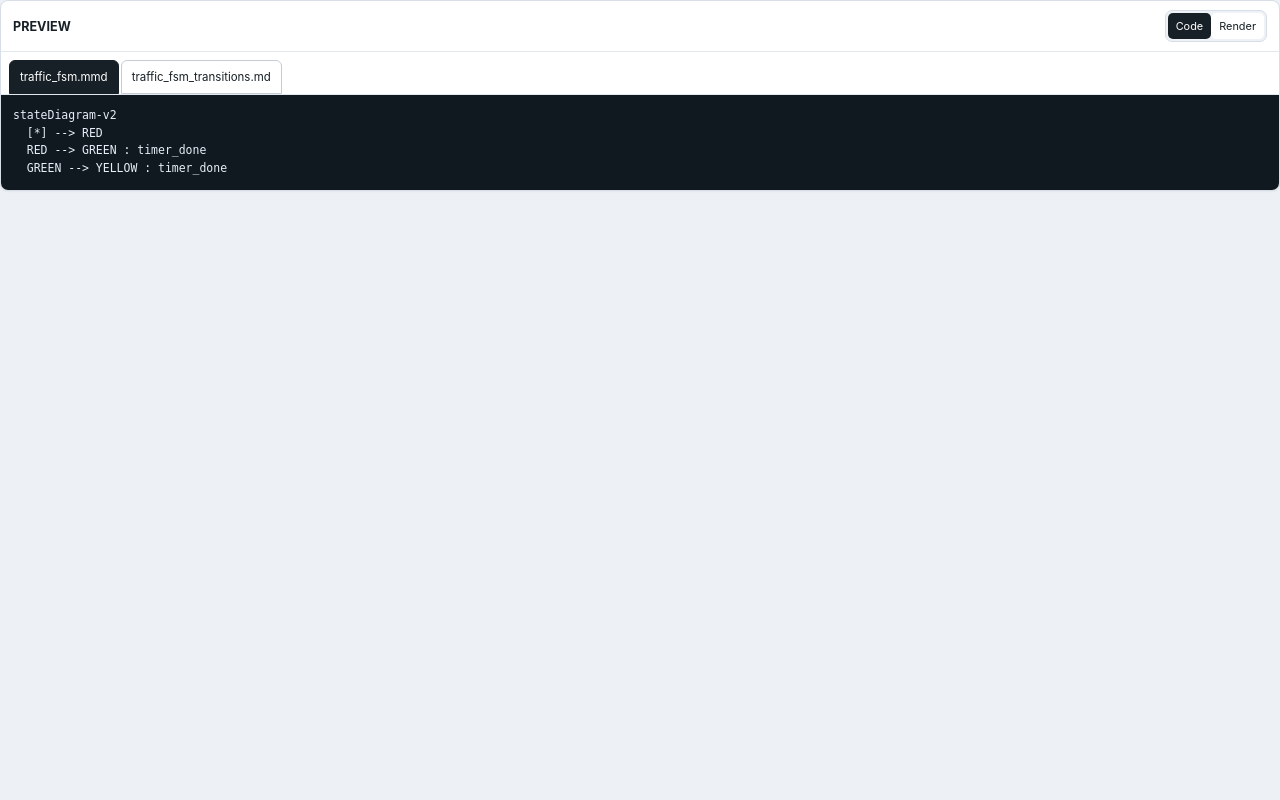
Test: PreviewTabs › renders Mermaid state diagrams on demand while keeping code as the default
The width and height of the screenshot is (1280, 800).
Expected: the element named "Artifact content" shows "stateDiagram-v2", [13,108,227,175]
Step 1. Click the button "Render" → (1238, 26), box [1211,13,1264,39]
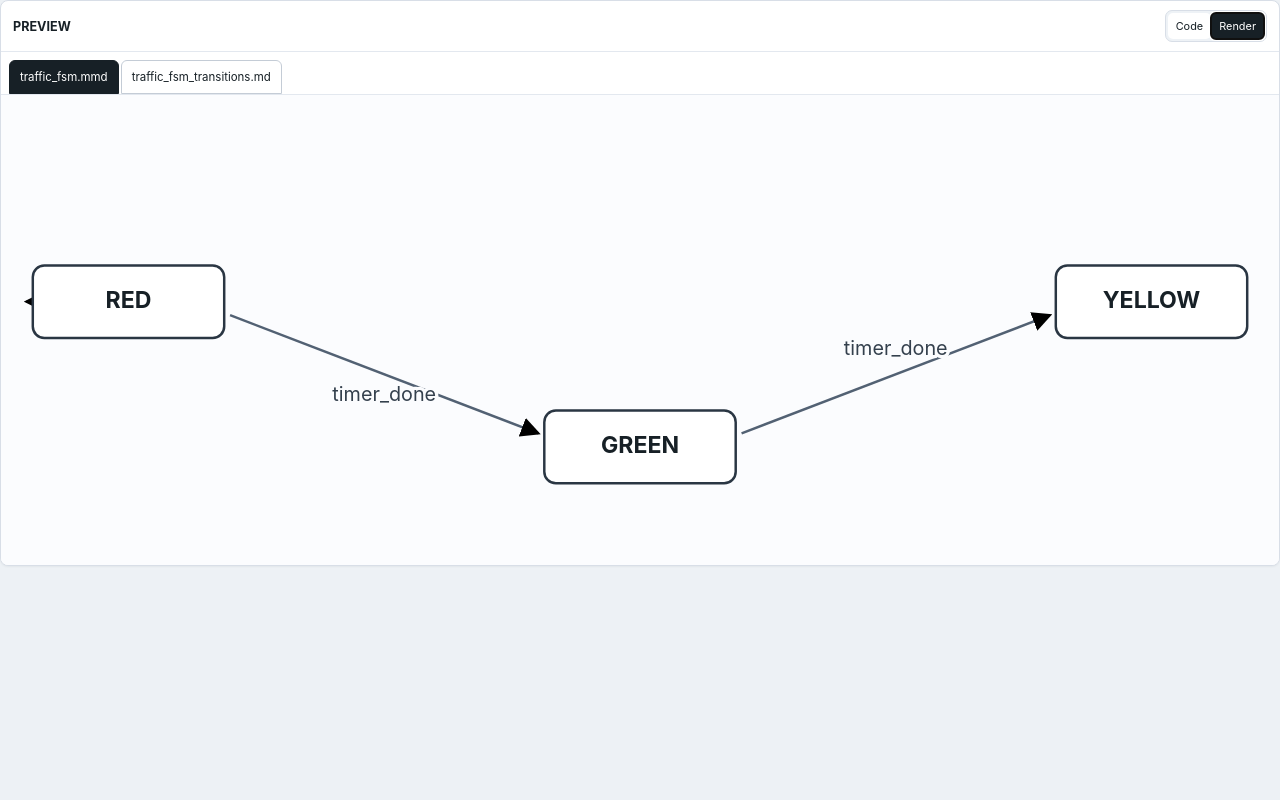
Expected: the text "RED" is shown, [106,286,152,314]
Expected: the element named "Rendered state diagram" is shown, [1,95,1279,565]
